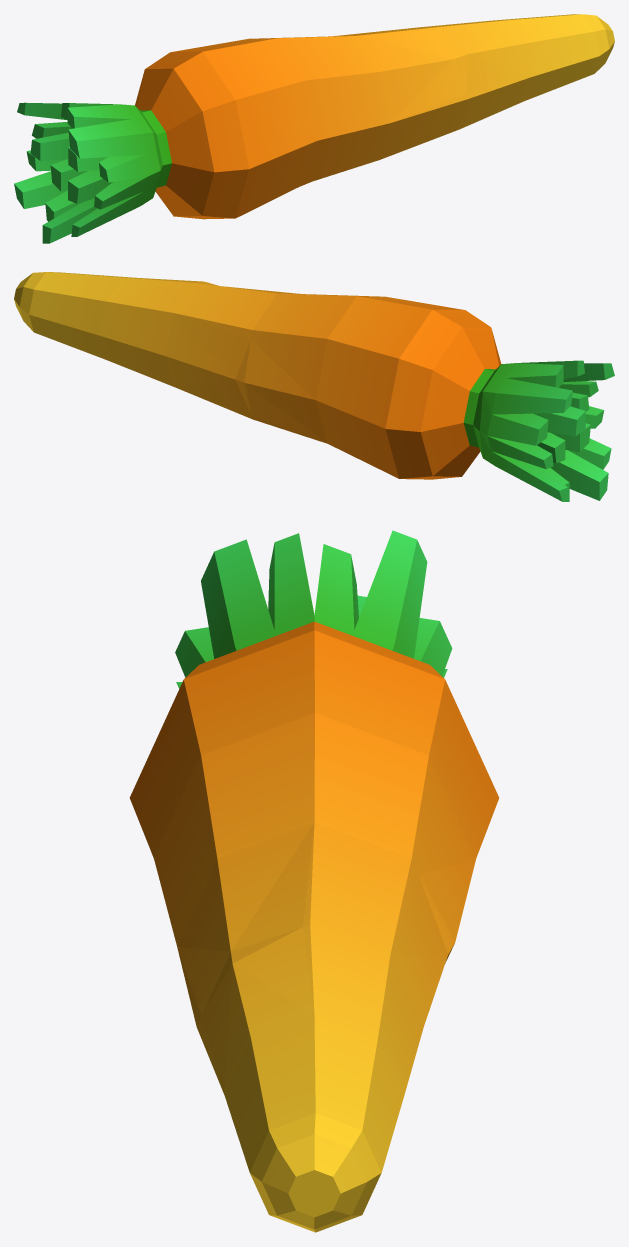
The model's file is carrot.fbx.
3 views of the same model, one above another, from view 1: azimuth 30°, elevation 25°; view 2: azimuth 150°, elevation 25°; view 3: azimuth 270°, elevation 25° (orthographic). The views are drawn at different scales.
Parts seen in each view (by area): view 1: carrot; view 2: carrot; view 3: carrot.
Part boxes in pixels (x1,y1,x2,y2): carrot: (14,14,614,243); carrot: (14,272,614,501); carrot: (129,530,499,1232).
Bounding box in the file's own units: 210 × 59.24 × 59.24.
